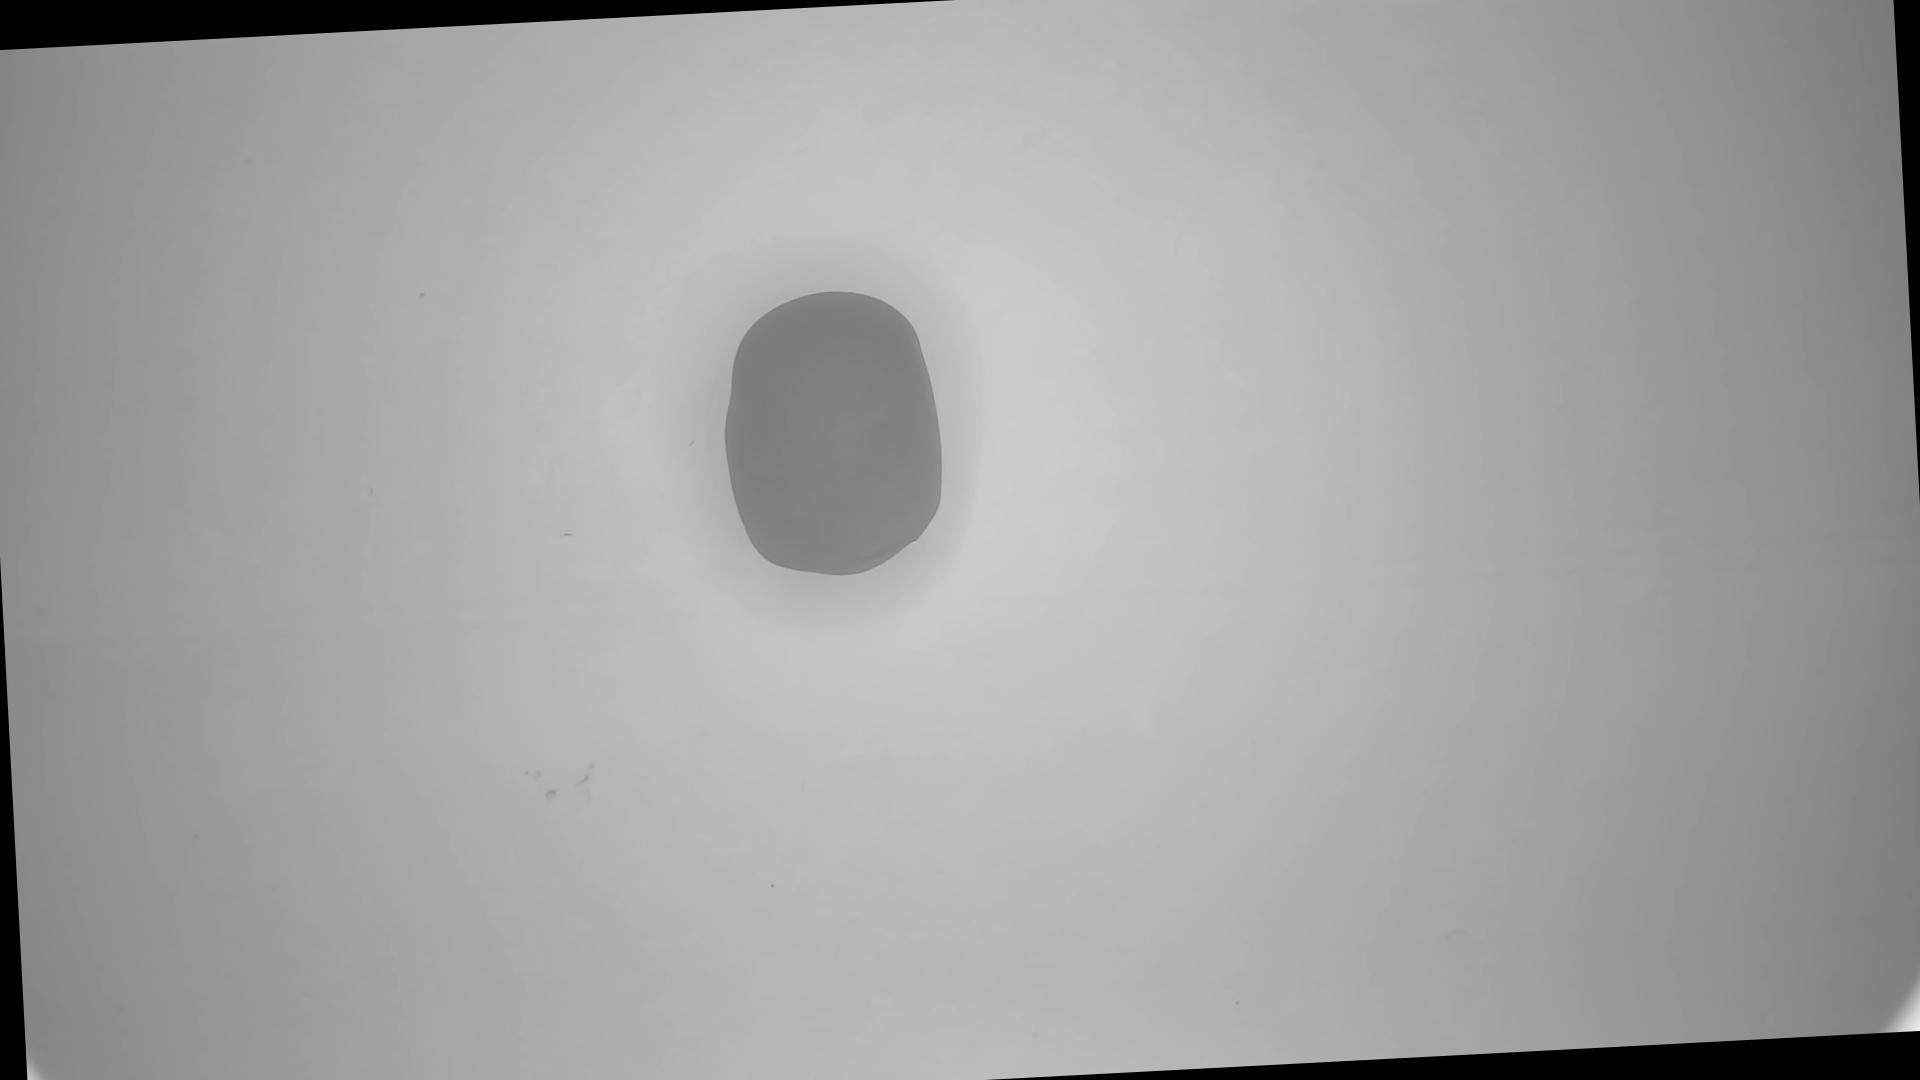abnormal: (715, 284, 953, 584)
